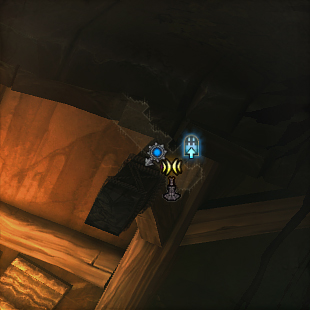ChannPylon: (161, 157, 184, 201)
